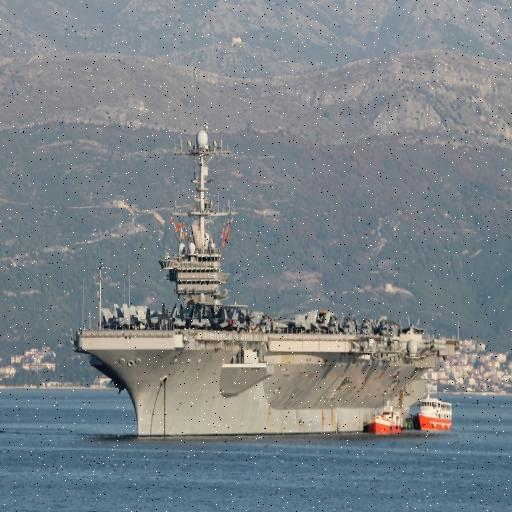Portanaves: (71, 119, 465, 443)
